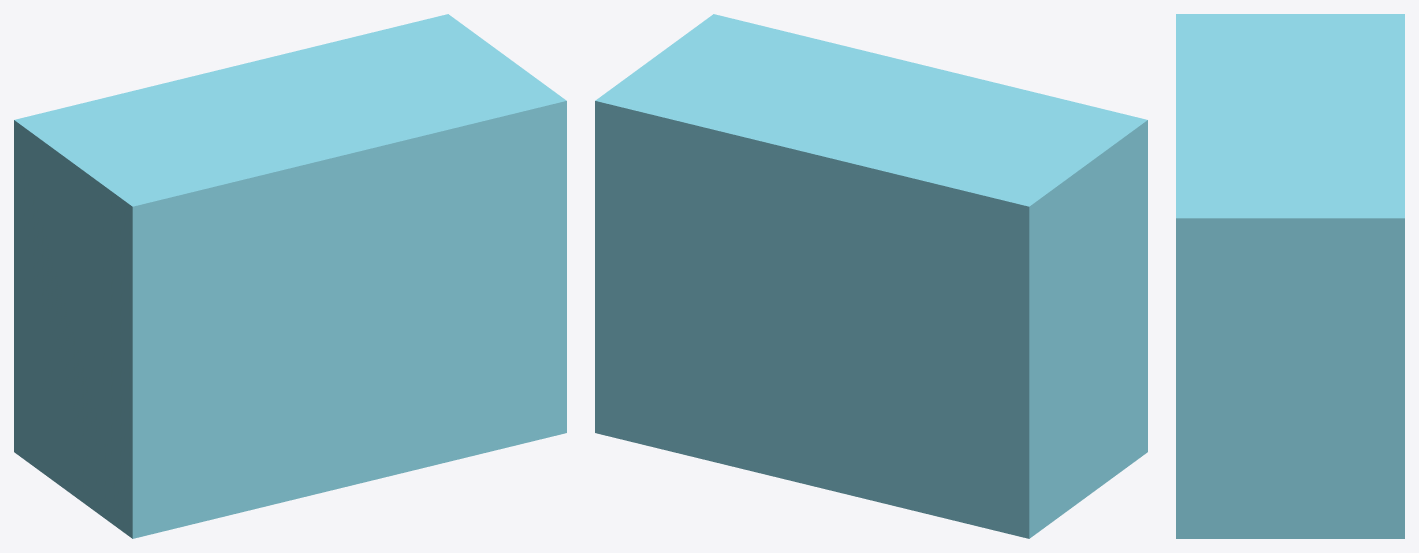
3 views of the same model, side by side, from view 1: azimuth 30°, elevation 25°; view 2: azimuth 150°, elevation 25°; view 3: azimuth 270°, elevation 25° (orthographic). The views are drawn at different scales.
Parts seen in each view (by area): view 1: cad-1776860392665-691ea445; view 2: cad-1776860392665-691ea445; view 3: cad-1776860392665-691ea445.
Boxes of the visible parts, x1,y1,x2,y2 form: cad-1776860392665-691ea445: (14,14,566,538); cad-1776860392665-691ea445: (595,14,1147,538); cad-1776860392665-691ea445: (1176,14,1404,538).
Size of the model in its own units: 465 by 340 by 220.
